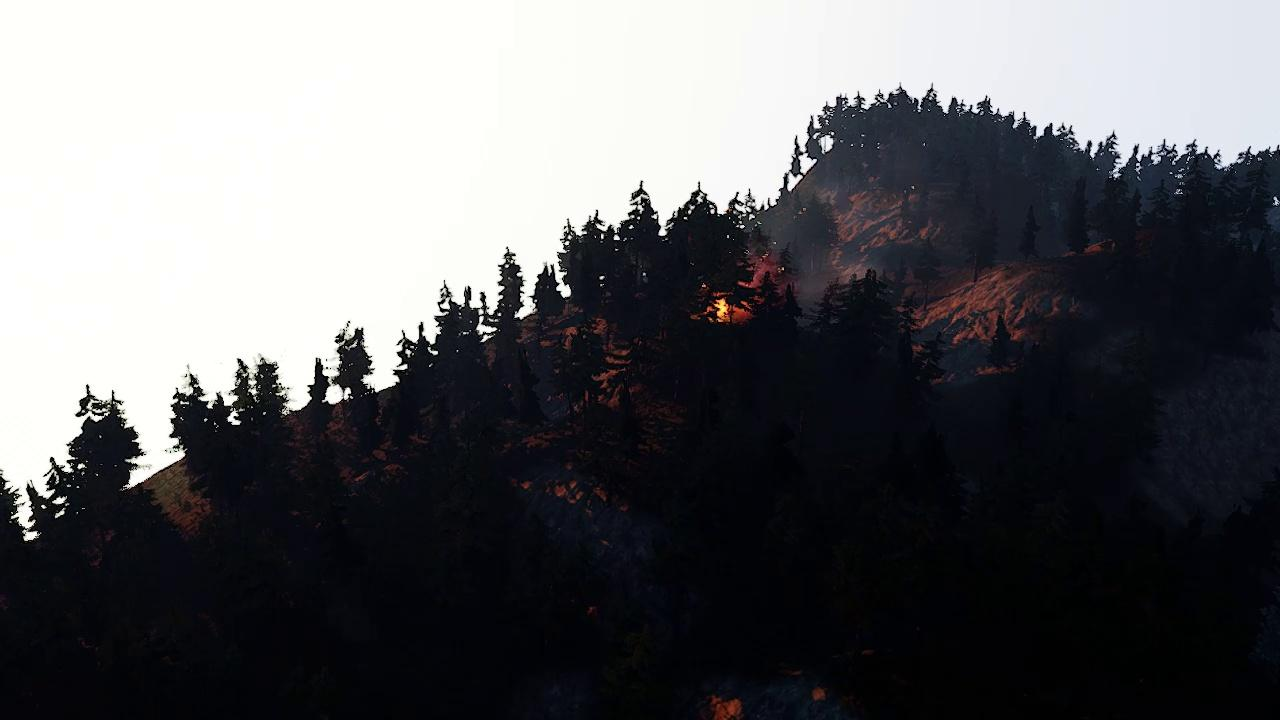fire: (708, 299, 733, 321)
smoke: (740, 250, 784, 291)
